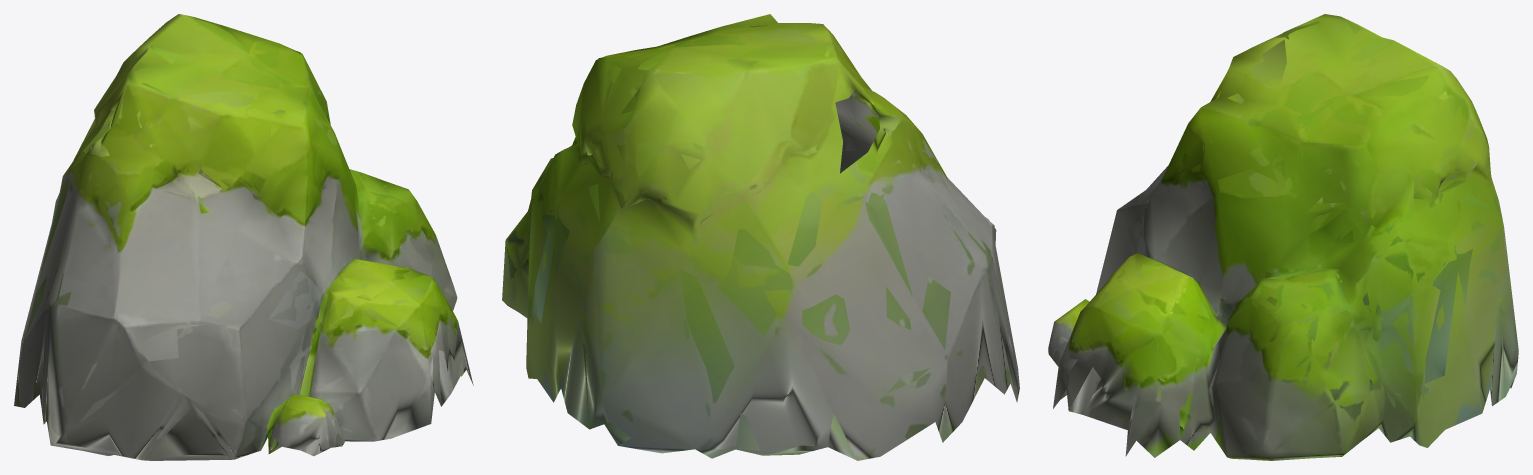
Rendered from rock_swamp.glb.
3 renders of one model, left to right at view 1: azimuth 30°, elevation 25°; view 2: azimuth 150°, elevation 25°; view 3: azimuth 270°, elevation 25°, orthographic. The views are drawn at different scales.
Visible parts, largest first — view 1: BakeLow; view 2: BakeLow; view 3: BakeLow.
Part boxes in pixels (box(x1,y1,x2,y2)): BakeLow: box(14, 14, 473, 460); BakeLow: box(502, 14, 1019, 460); BakeLow: box(1048, 14, 1518, 460).
Bounding box in the file's own units: 0.8984 × 0.6322 × 0.8234.
Materials: 1 (1 with a texture image).
